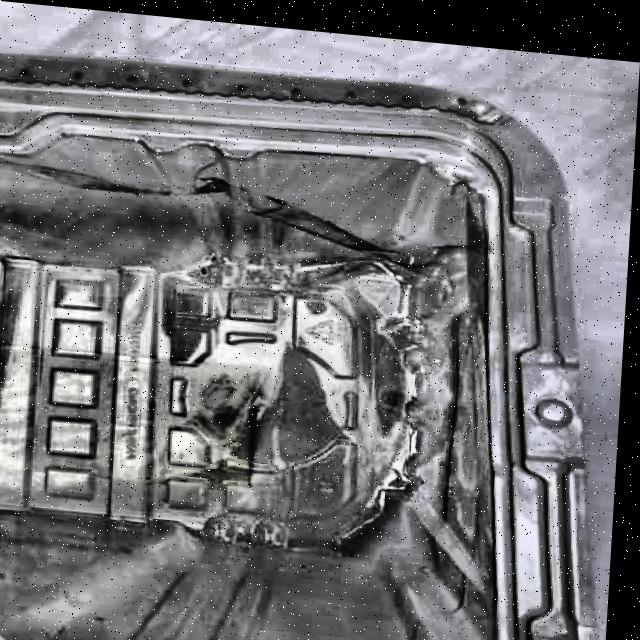plastic: (0, 44, 632, 640)
